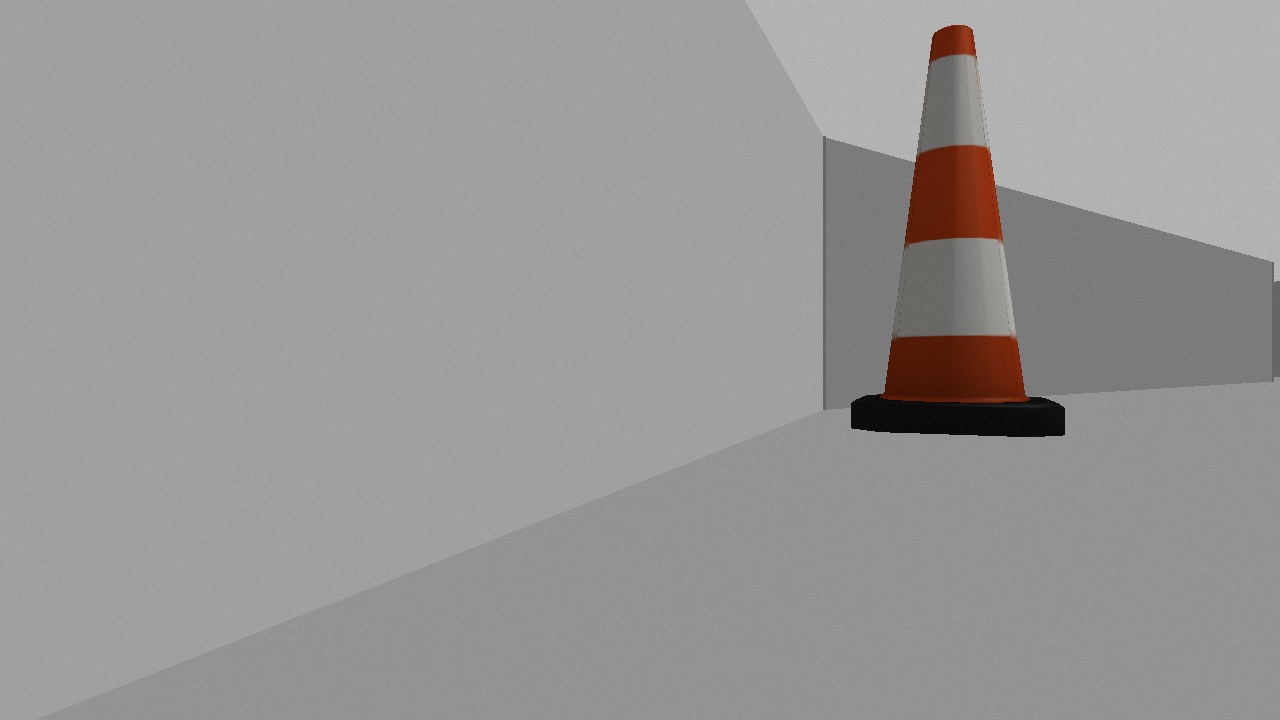barricade: (839, 17, 1083, 465)
